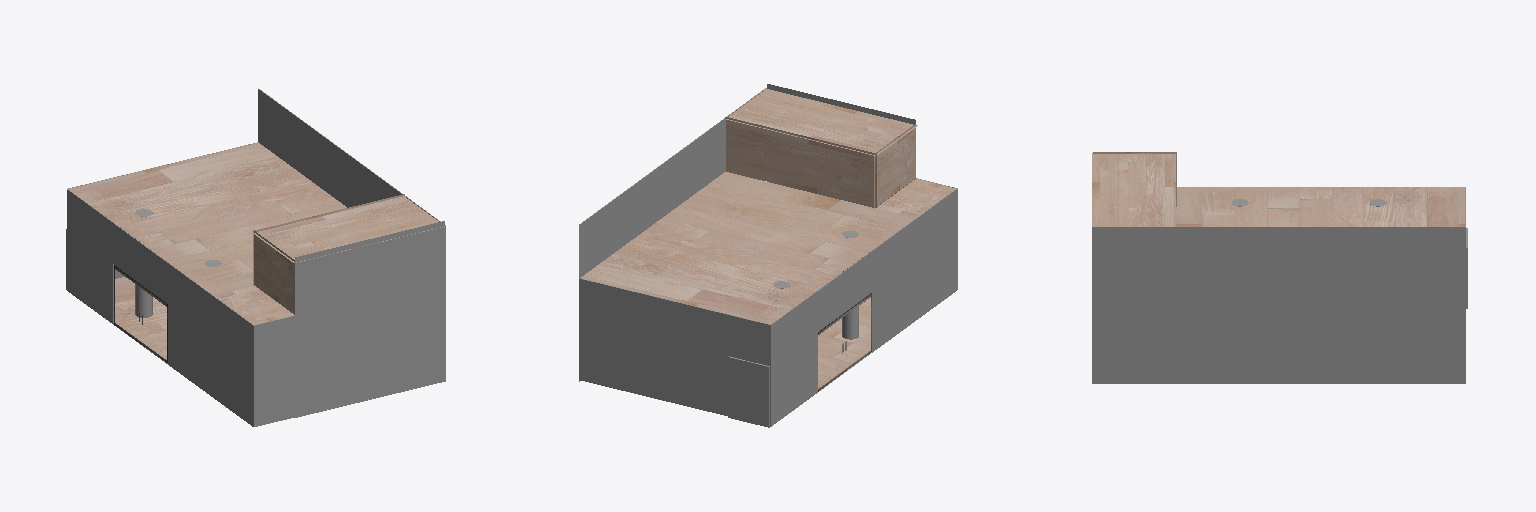
3 views of the same model, side by side, from view 1: azimuth 30°, elevation 25°; view 2: azimuth 150°, elevation 25°; view 3: azimuth 270°, elevation 25° (orthographic).
Visible parts, largest first — view 1: frontdoor_Plane.006, ceiling_Plane.004, frontwallleft.001_Cube.002, backwall_Cube, ceiling2.003_Plane.009, frontwallleft_Cube.001, windowwall.000_Cube.005, blankwall1_Cube.006, flooor_Plane, ceiling2.001_Plane.003, ceiling2.002_Plane.007, pillar1_Cylinder.003; view 2: ceiling_Plane.004, windowwall.001_Cube.004, frontwallleft.001_Cube.002, ceiling2.000_Plane.008, backwall_Cube, ceiling2.003_Plane.009, frontwallleft_Cube.001, door_Cube.003, blankwall1_Cube.006, flooor_Plane, ceiling2.001_Plane.003, ceiling2.002_Plane.007 (+2 smaller); view 3: backwall_Cube, ceiling_Plane.004, ceiling2.003_Plane.009.
Boxes of the visible parts, <box> form: frontdoor_Plane.006: <box>295,221,444,417</box>; ceiling_Plane.004: <box>69,143,346,295</box>; frontwallleft.001_Cube.002: <box>168,263,254,426</box>; backwall_Cube: <box>258,89,445,381</box>; ceiling2.003_Plane.009: <box>252,196,444,262</box>; frontwallleft_Cube.001: <box>67,189,113,324</box>; windowwall.000_Cube.005: <box>254,315,294,426</box>; blankwall1_Cube.006: <box>112,223,168,303</box>; flooor_Plane: <box>115,277,413,420</box>; ceiling2.001_Plane.003: <box>253,230,294,314</box>; ceiling2.002_Plane.007: <box>214,286,293,324</box>; pillar1_Cylinder.003: <box>135,209,152,317</box>; ceiling_Plane.004: <box>581,172,915,324</box>; windowwall.001_Cube.004: <box>579,278,769,415</box>; frontwallleft.001_Cube.002: <box>872,188,957,352</box>; ceiling2.000_Plane.008: <box>725,117,876,207</box>; backwall_Cube: <box>579,88,765,381</box>; ceiling2.003_Plane.009: <box>726,88,917,155</box>; frontwallleft_Cube.001: <box>770,291,817,426</box>; door_Cube.003: <box>728,356,769,427</box>; blankwall1_Cube.006: <box>816,251,872,332</box>; flooor_Plane: <box>817,274,870,388</box>; ceiling2.001_Plane.003: <box>874,124,915,208</box>; ceiling2.002_Plane.007: <box>876,179,956,217</box>; backwall_Cube: <box>1092,227,1465,383</box>; ceiling_Plane.004: <box>1176,187,1464,226</box>; ceiling2.003_Plane.009: <box>1092,153,1175,226</box>.
Bounding box in the file's own units: 23.17 × 18.56 × 39.28.
14 materials, 2 textured.